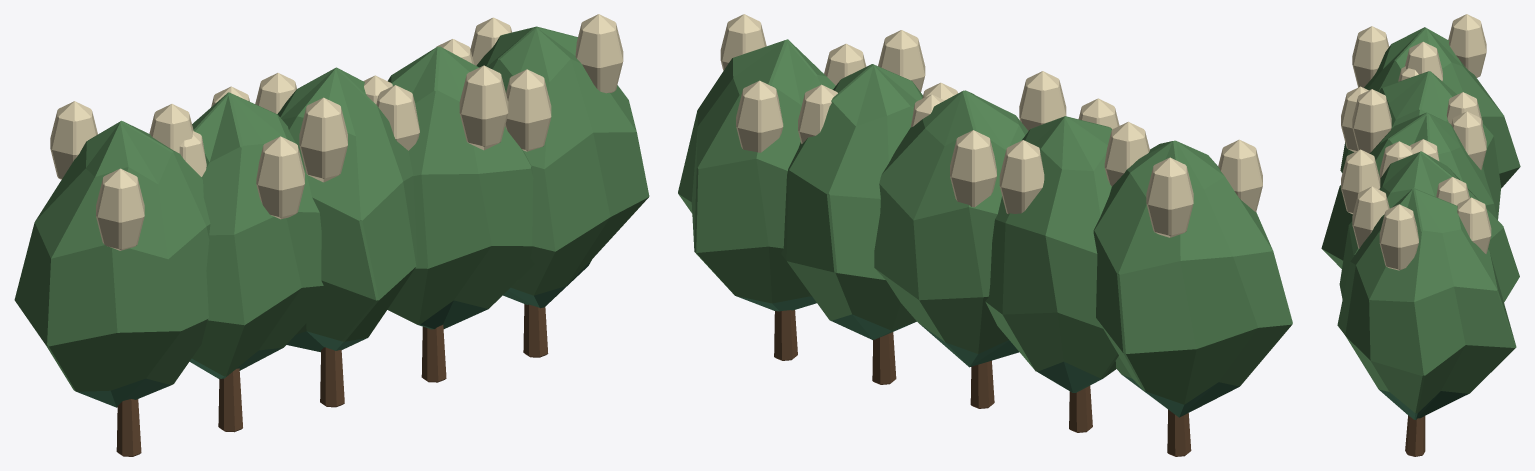
Rendered from b08_privet_flowering_hedge.glb.
3 renders of one model, left to right at view 1: azimuth 30°, elevation 25°; view 2: azimuth 150°, elevation 25°; view 3: azimuth 270°, elevation 25°, orthographic. The views are drawn at different scales.
Visible parts, largest first — view 1: b08_privet_flowering_hedge; view 2: b08_privet_flowering_hedge; view 3: b08_privet_flowering_hedge.
Part boxes in pixels (bbox=[...]): b08_privet_flowering_hedge: bbox=[14, 14, 649, 456]; b08_privet_flowering_hedge: bbox=[678, 14, 1292, 456]; b08_privet_flowering_hedge: bbox=[1321, 14, 1520, 456].
Size of the model in its own units: 3.02 by 1.57 by 1.05.
